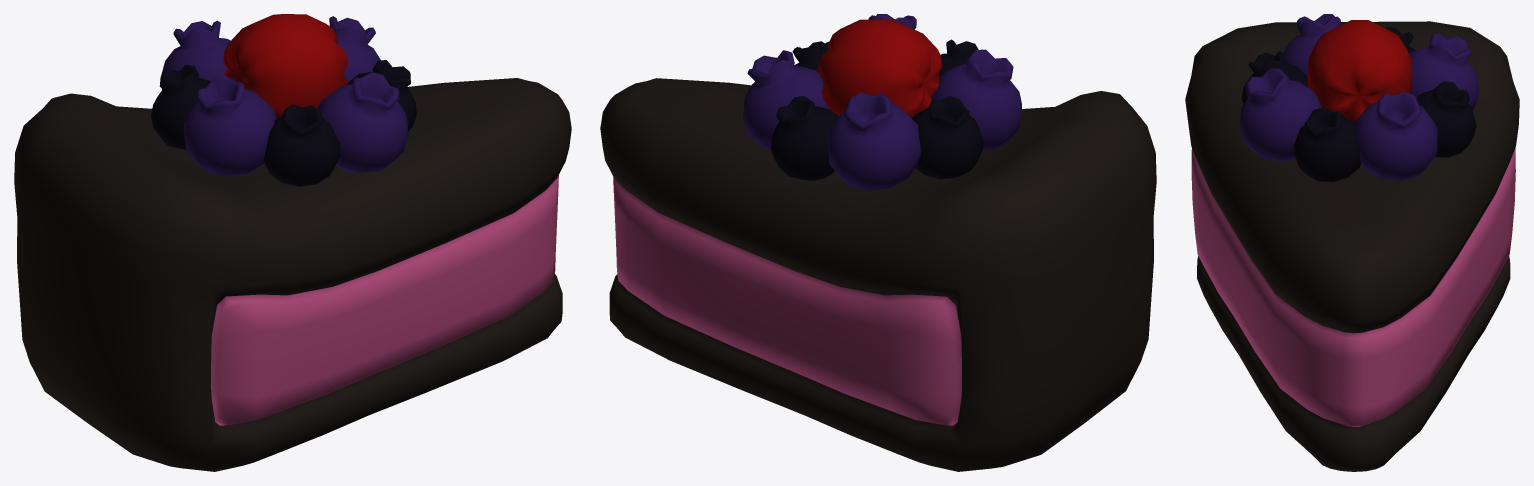
The model's file is Cake_3.FBX.
The picture shows the model from 3 angles, left to right: view 1: azimuth 30°, elevation 25°; view 2: azimuth 150°, elevation 25°; view 3: azimuth 270°, elevation 25°; orthographic projection. The views are drawn at different scales.
Parts seen in each view (by area): view 1: Cake_3; view 2: Cake_3; view 3: Cake_3.
Boxes of the visible parts, box(x1,y1,x2,y2) form: Cake_3: box(14, 14, 571, 471); Cake_3: box(600, 14, 1156, 471); Cake_3: box(1185, 14, 1519, 471).
Size of the model in its own units: 1054 by 664 by 731.
